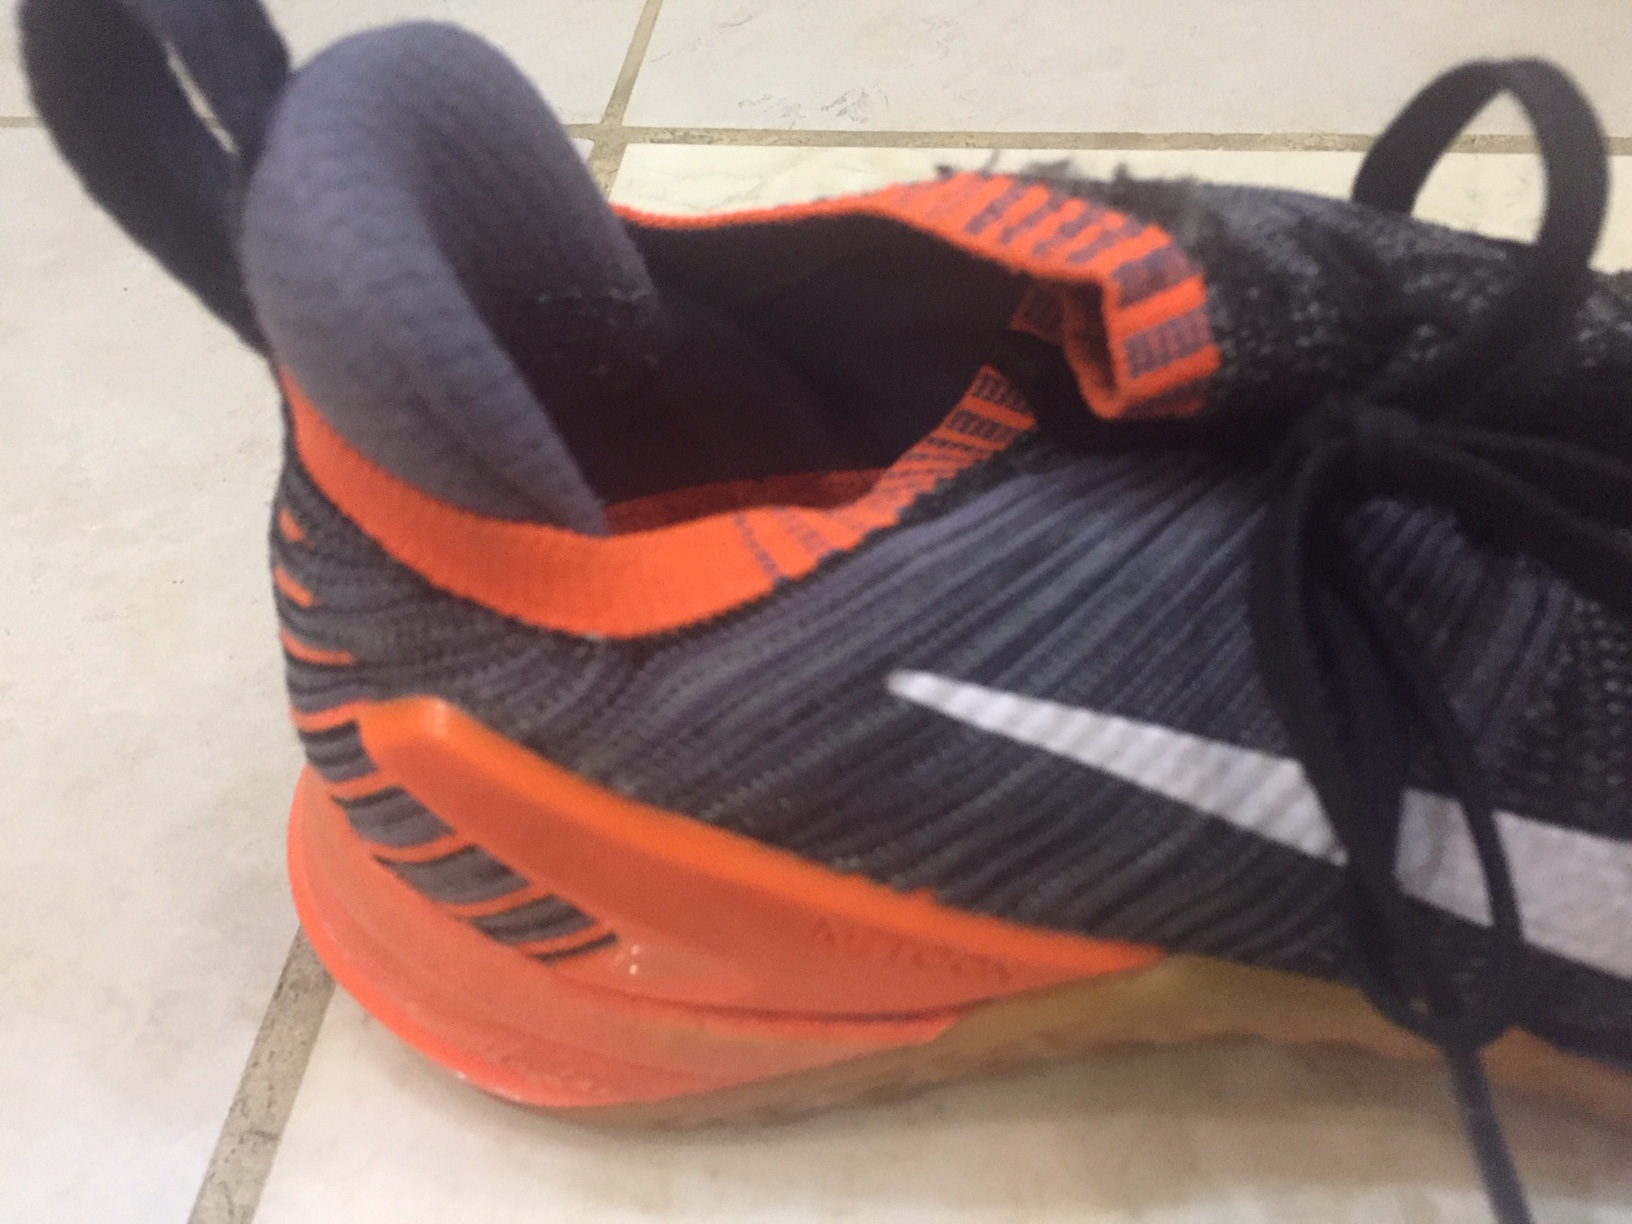car: (216, 1, 1629, 1149)
